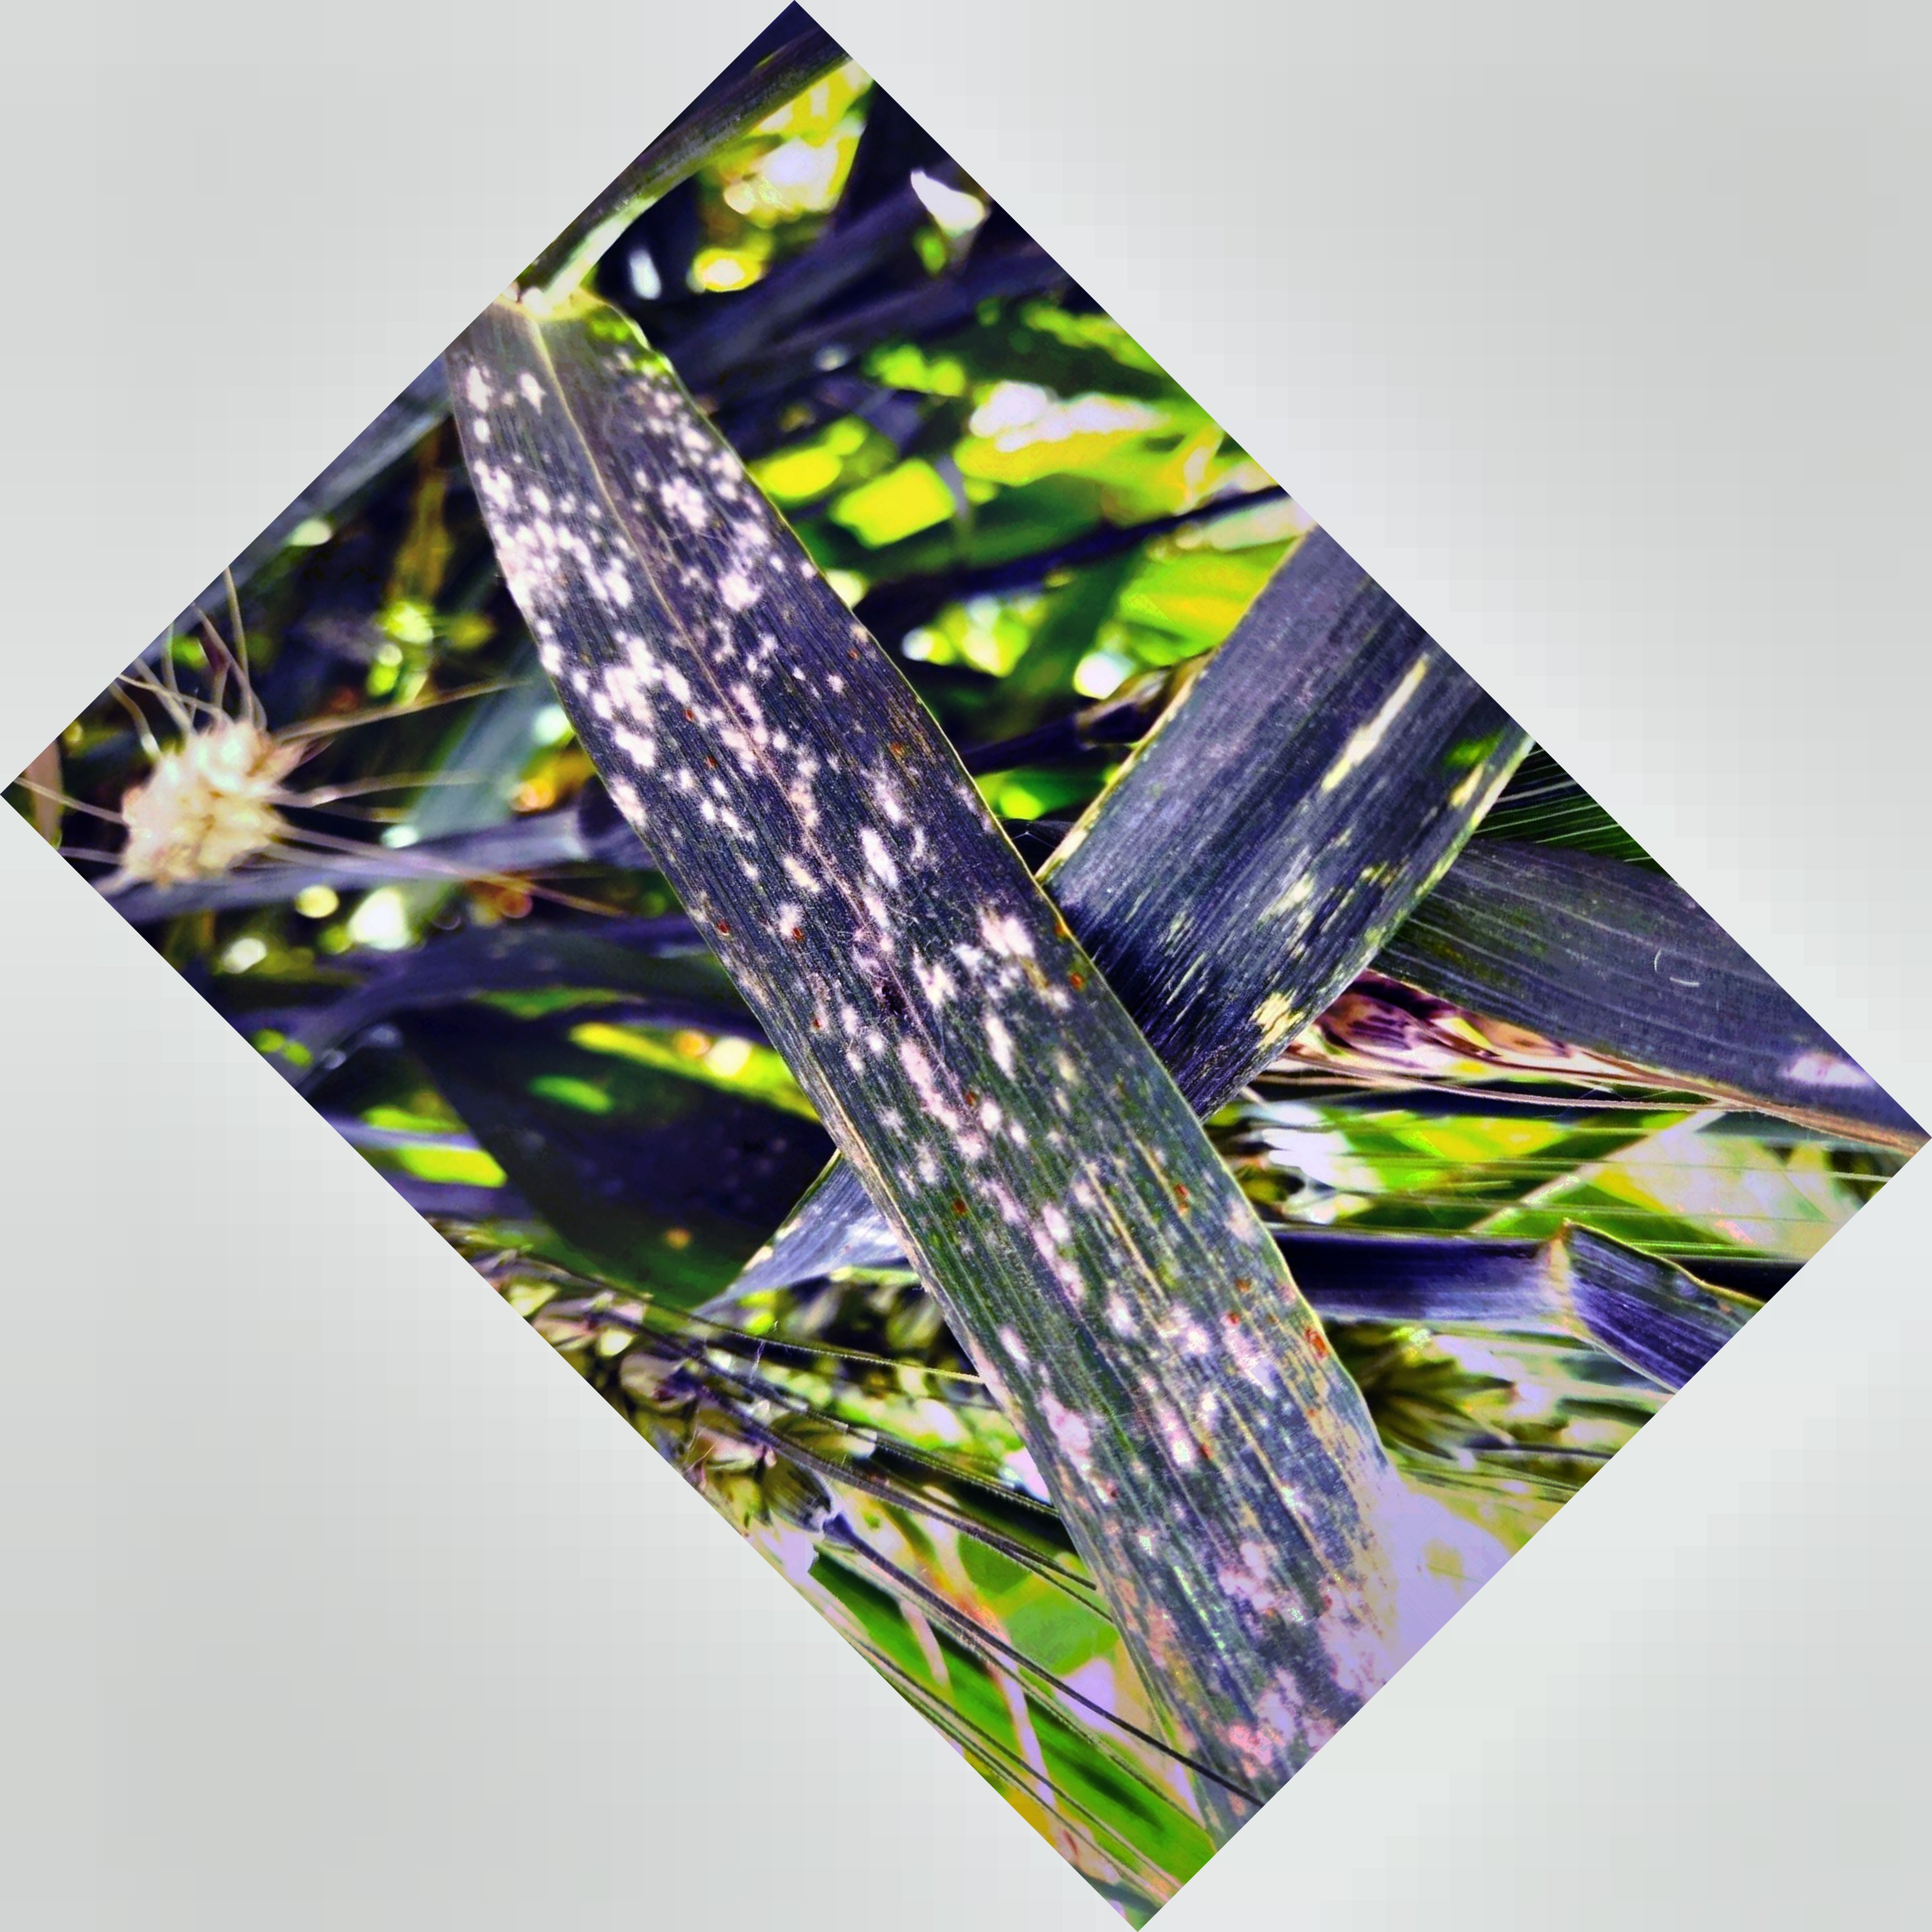Powdery Mildew: (464, 384, 1292, 1486)
